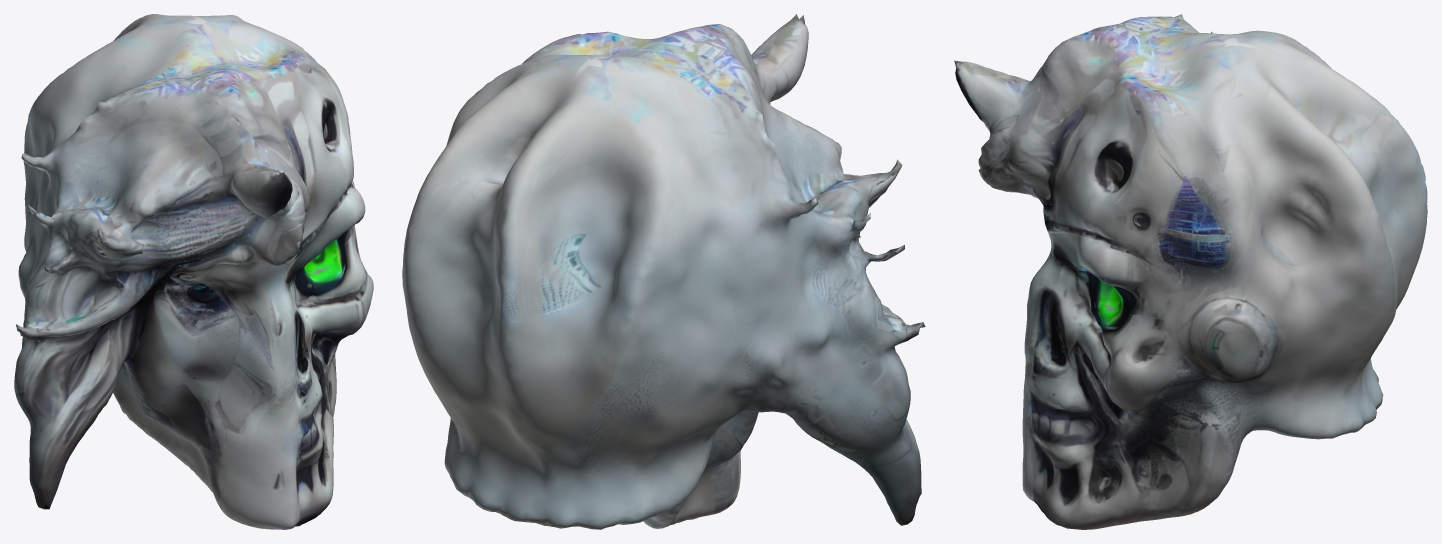
The model's file is DALL·E_2024_07_04_15_0704172821.glb.
3 views of the same model, side by side, from view 1: azimuth 30°, elevation 25°; view 2: azimuth 150°, elevation 25°; view 3: azimuth 270°, elevation 25° (orthographic). The views are drawn at different scales.
Size of the model in its own units: 1.1 by 1.2 by 1.1.
Materials: 1 (1 with a texture image).
